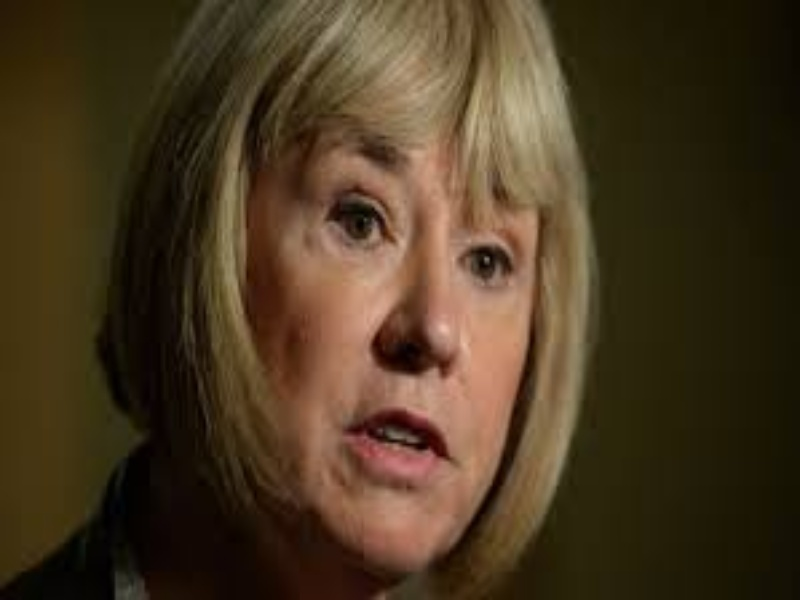face: (271, 98, 535, 519)
